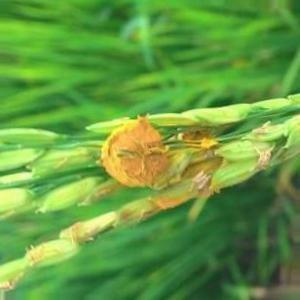Leaf_Scald: (106, 124, 164, 191), (181, 134, 219, 192)
